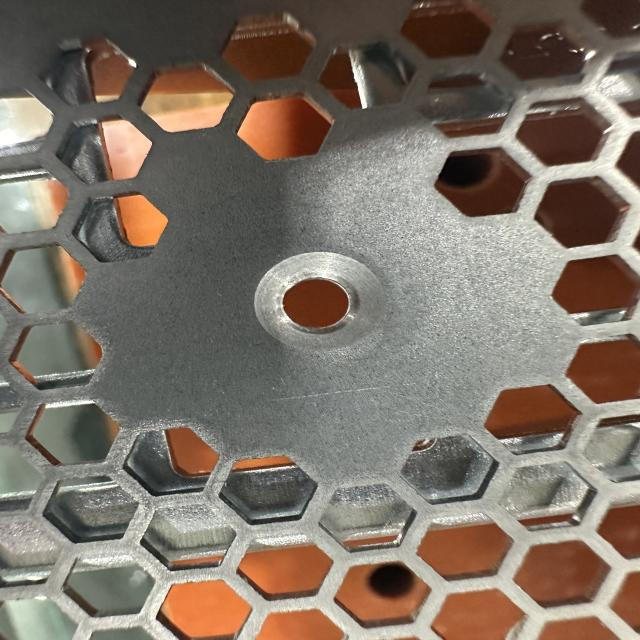Missing screw: (248, 245, 400, 362)
